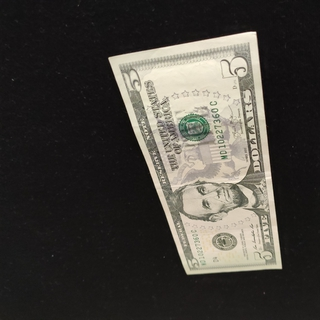5USDFront: (108, 30, 283, 275)
